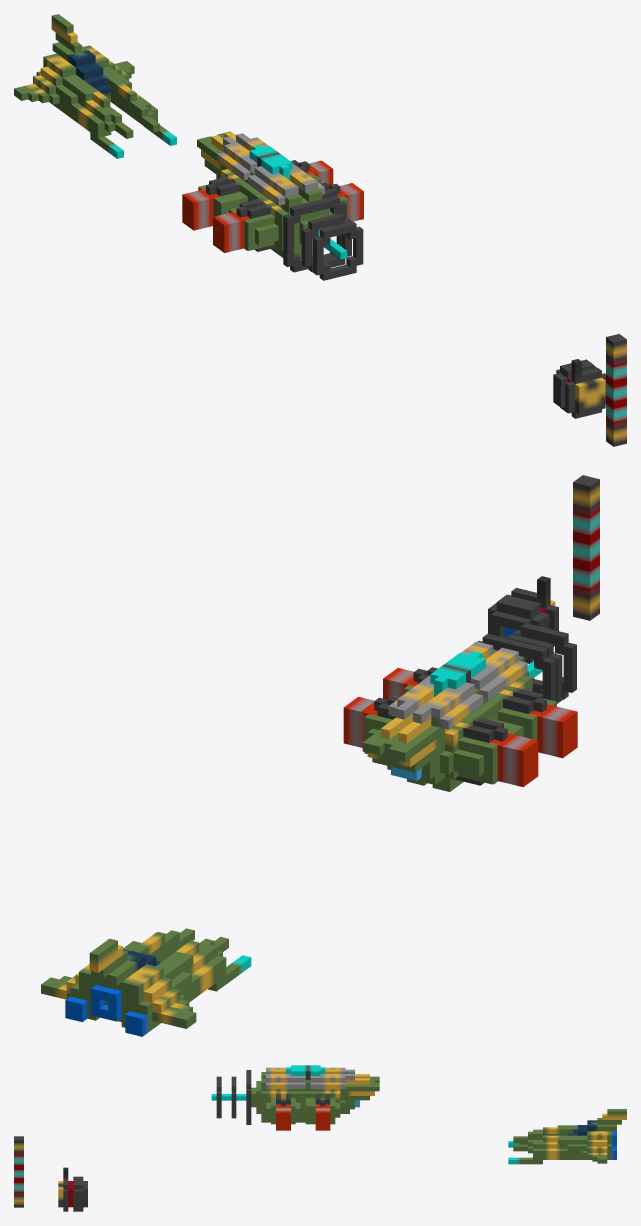
File: swat_army_obstacles.dae
3 renders of one model, top to bottom at view 1: azimuth 30°, elevation 25°; view 2: azimuth 150°, elevation 25°; view 3: azimuth 270°, elevation 25°, orthographic. The views are drawn at different scales.
Parts seen in each view (by area): view 1: army_laser_ship, army_jet_fighter, swat_bomb_drone, swat_barricade; view 2: army_laser_ship, army_jet_fighter, swat_barricade, swat_bomb_drone; view 3: army_laser_ship, army_jet_fighter, swat_bomb_drone, swat_barricade.
Part boxes in pixels (<box>): army_laser_ship: <box>182,131,363,280</box>; army_jet_fighter: <box>14,14,176,158</box>; swat_bomb_drone: <box>553,359,605,418</box>; swat_barricade: <box>606,334,626,446</box>; army_laser_ship: <box>343,623,577,791</box>; army_jet_fighter: <box>41,928,251,1036</box>; swat_barricade: <box>573,475,599,620</box>; swat_bomb_drone: <box>488,576,558,663</box>; army_laser_ship: <box>211,1065,379,1130</box>; army_jet_fighter: <box>508,1109,626,1164</box>; swat_bomb_drone: <box>58,1167,87,1211</box>; swat_barricade: <box>14,1136,23,1207</box>.
Size of the model in its own units: 33 by 22 by 124.
1 material, 1 textured.
